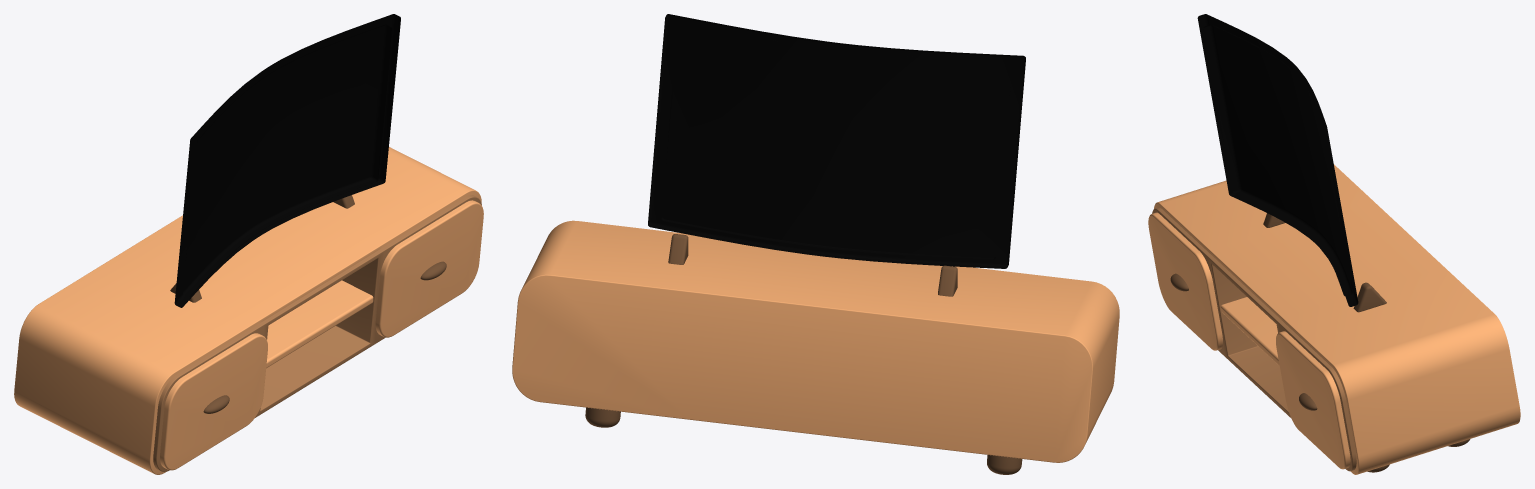
Rendered from Tv Bench.fbx.
3 renders of one model, left to right at view 1: azimuth 30°, elevation 25°; view 2: azimuth 150°, elevation 25°; view 3: azimuth 270°, elevation 25°, orthographic. The views are drawn at different scales.
Parts seen in each view (by area): view 1: Cube.148, Cube.154, Cube.146, Cube.149, Cube.150, Cube.151, Cube.147; view 2: Cube.148, Cube.151, Cube.154; view 3: Cube.148, Cube.154, Cube.146, Cube.149, Cube.150, Cube.151, Cube.147, Cube.153.
Part boxes in pixels (x1,y1,x2,y2): Cube.148: (14, 147, 481, 474); Cube.154: (182, 24, 392, 296); Cube.146: (153, 195, 481, 471); Cube.149: (160, 333, 267, 470); Cube.150: (375, 200, 483, 337); Cube.151: (174, 14, 400, 307); Cube.147: (266, 280, 373, 367); Cube.148: (512, 220, 1119, 462); Cube.151: (648, 14, 1025, 268); Cube.154: (661, 25, 995, 259); Cube.148: (1154, 164, 1520, 474); Cube.154: (1203, 24, 1352, 296); Cube.146: (1152, 207, 1356, 471); Cube.149: (1148, 212, 1222, 350); Cube.150: (1276, 331, 1350, 469); Cube.151: (1197, 14, 1358, 306); Cube.147: (1220, 297, 1279, 365); Cube.153: (1353, 282, 1386, 312).
Bounding box in the file's own units: 569 × 399 × 380.
